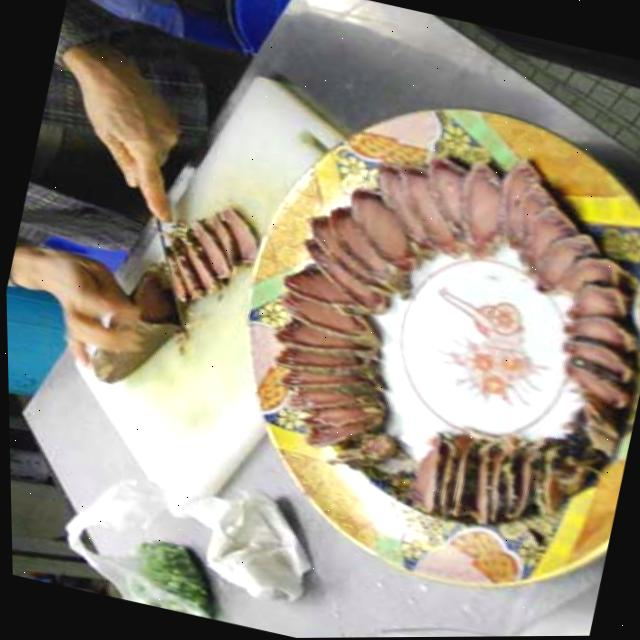熟制海鲜: (28, 21, 640, 624)
